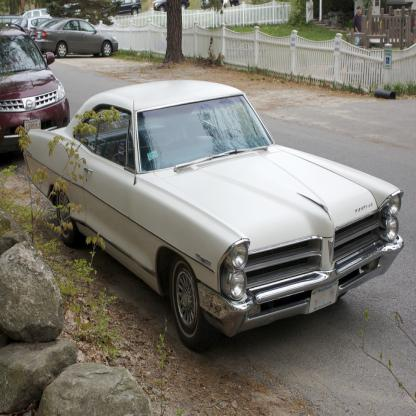Car: (0, 3, 405, 357)
